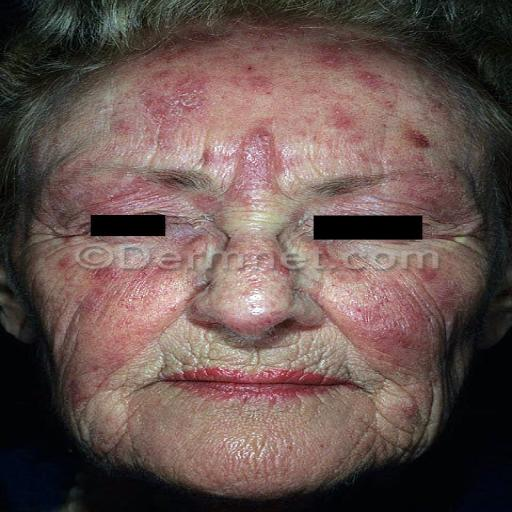Skin_Lesion: (369, 272, 413, 367), (126, 69, 178, 147), (104, 254, 182, 293), (250, 128, 278, 198), (320, 107, 354, 142), (238, 62, 272, 96), (404, 122, 432, 160), (353, 62, 382, 93), (223, 230, 241, 269), (399, 392, 419, 427), (440, 277, 462, 308), (419, 265, 443, 290), (272, 254, 292, 278), (72, 382, 87, 414), (290, 202, 308, 224), (200, 146, 216, 170), (58, 254, 74, 275)
